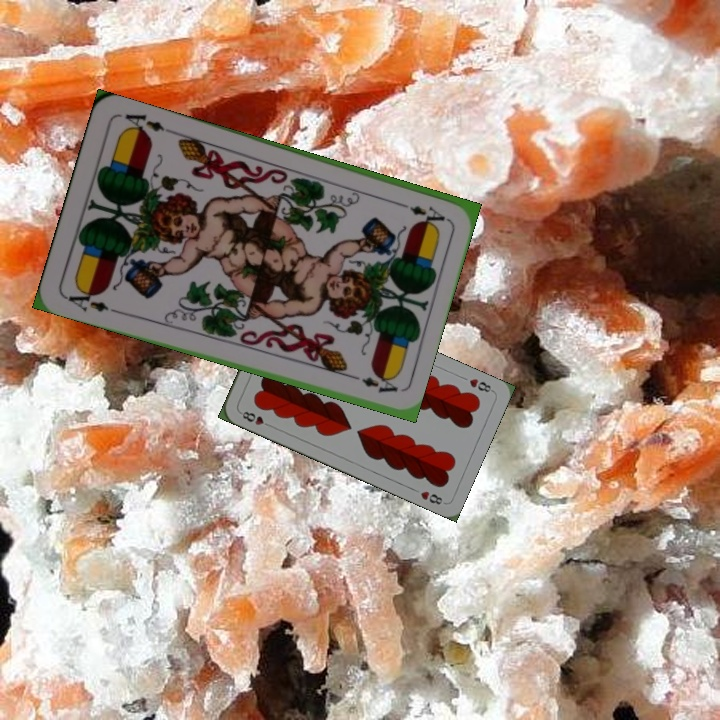EA: (61, 284, 119, 315), (392, 198, 448, 224)
H8: (236, 407, 275, 430), (465, 374, 496, 395)
